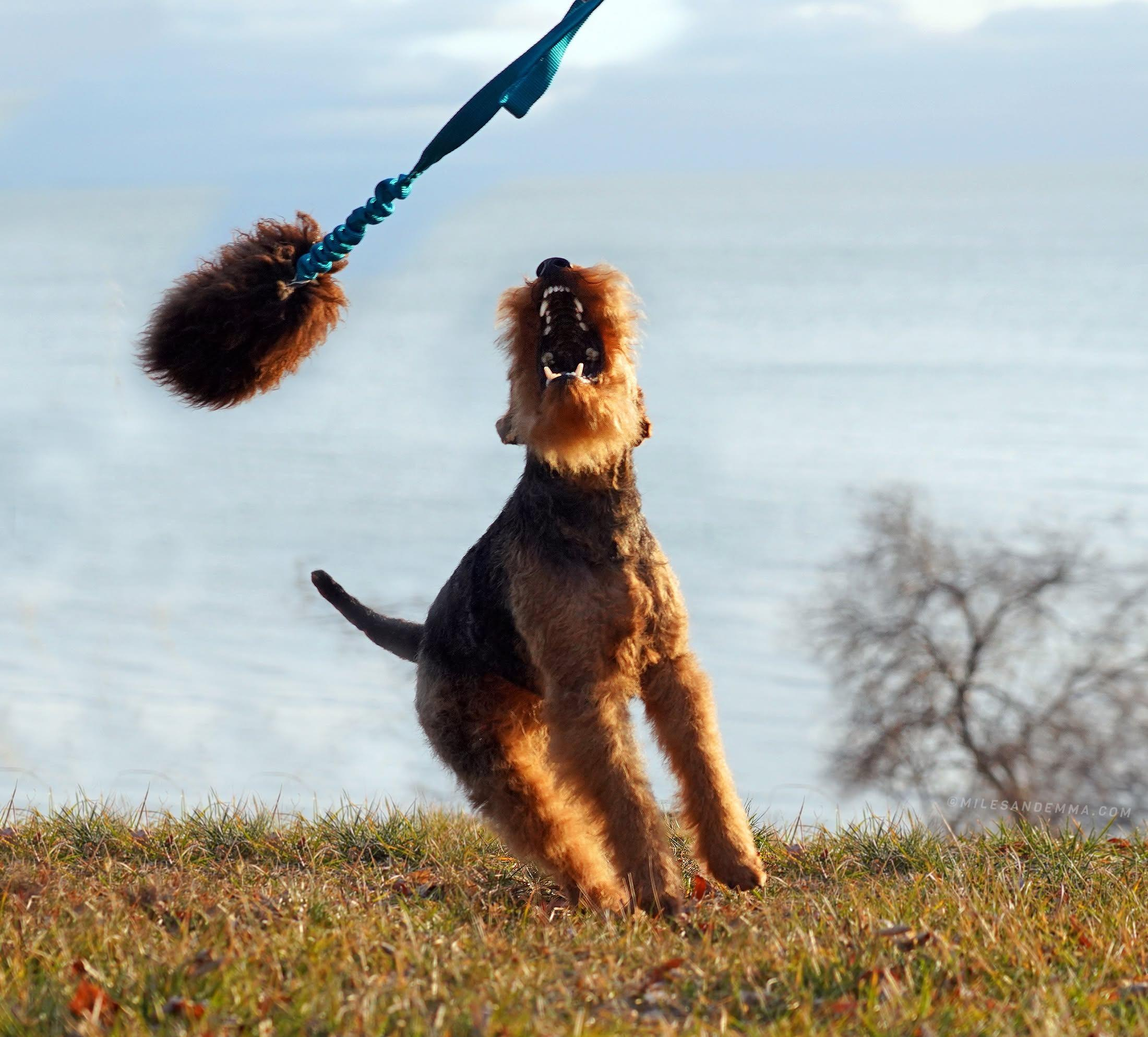adult_dog: (307, 252, 768, 919)
